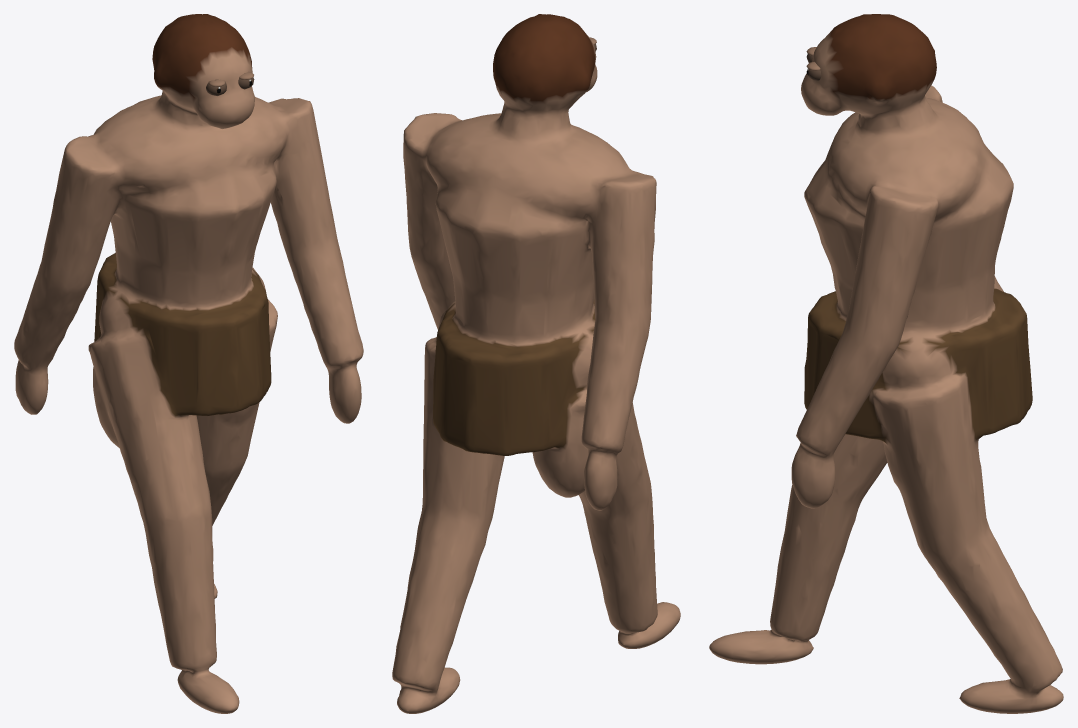
Rendered from HomoNeanderthalensis.fbx.
The picture shows the model from 3 angles, left to right: view 1: azimuth 30°, elevation 25°; view 2: azimuth 150°, elevation 25°; view 3: azimuth 270°, elevation 25°; orthographic projection. The views are drawn at different scales.
Visible parts, largest first — view 1: HomoNeanderthalensis; view 2: HomoNeanderthalensis; view 3: HomoNeanderthalensis.
Boxes of the visible parts, <box> form: HomoNeanderthalensis: <box>14,14,363,713</box>; HomoNeanderthalensis: <box>392,14,680,713</box>; HomoNeanderthalensis: <box>709,14,1063,713</box>.
Size of the model in its own units: 0.6712 by 1.55 by 0.7462.
